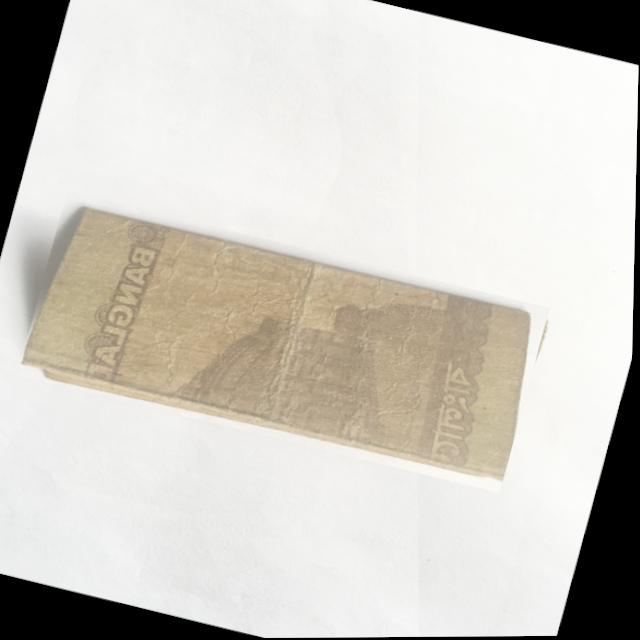Taka: (16, 187, 553, 496)
